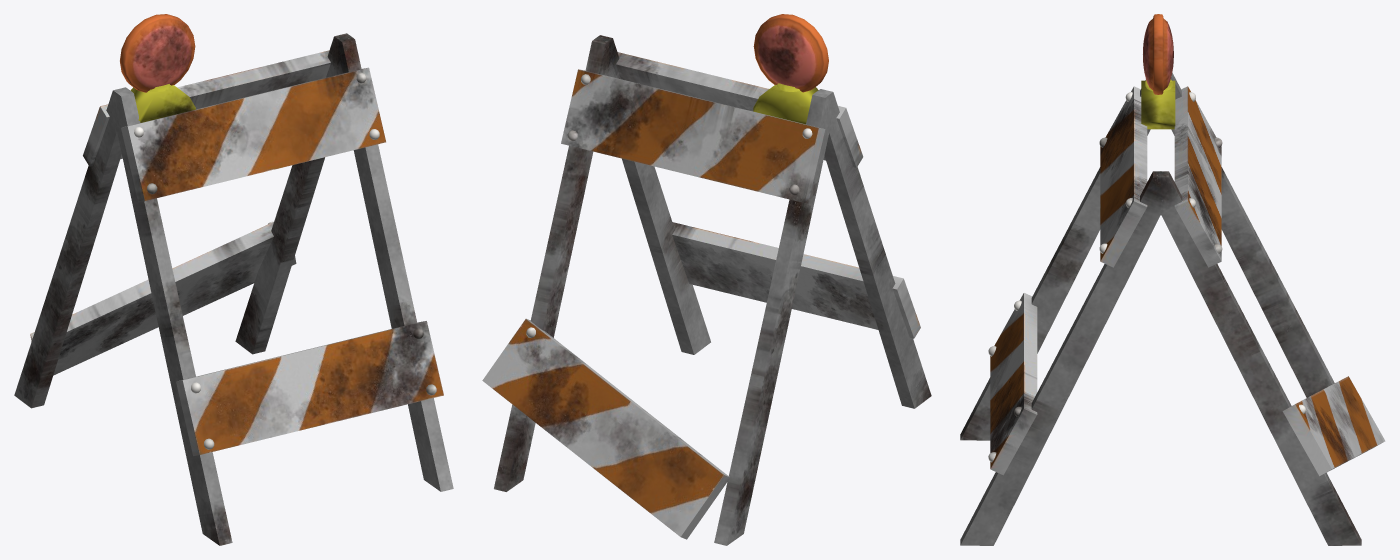
Rendered from barricade.glb.
3 views of the same model, side by side, from view 1: azimuth 30°, elevation 25°; view 2: azimuth 150°, elevation 25°; view 3: azimuth 270°, elevation 25° (orthographic). The views are drawn at different scales.
Parts seen in each view (by area): view 1: polySurface68; view 2: polySurface68; view 3: polySurface68.
Part boxes in pixels (x1,y1,x2,y2): polySurface68: [14, 14, 453, 545]; polySurface68: [482, 14, 931, 545]; polySurface68: [960, 14, 1385, 545].
Size of the model in its own units: 2.26 by 3.64 by 3.22.
Materials: 1 (1 with a texture image).
